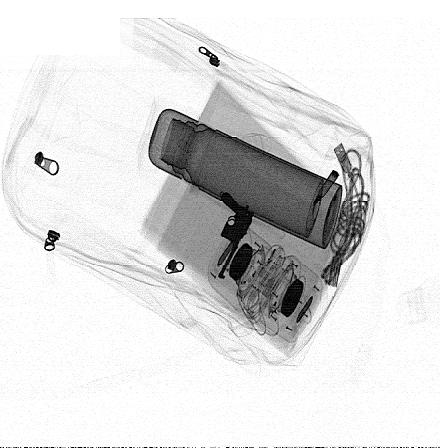Bullet: (312, 170, 340, 206)
Gun: (218, 189, 255, 278)
